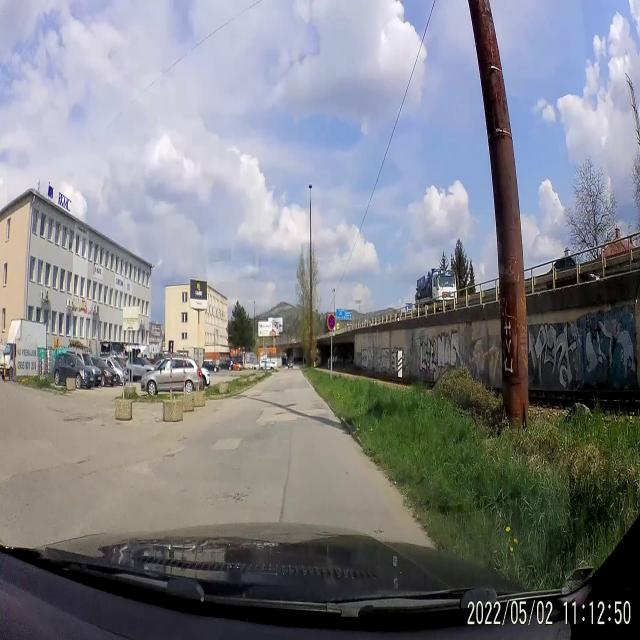Pothole: (220, 473, 256, 514), (163, 430, 190, 465), (59, 412, 106, 428), (70, 452, 94, 468), (47, 404, 63, 414), (250, 392, 264, 400), (373, 528, 385, 535)
